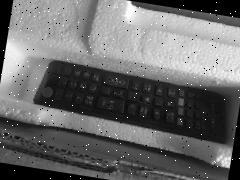electronic: (30, 56, 233, 144)
